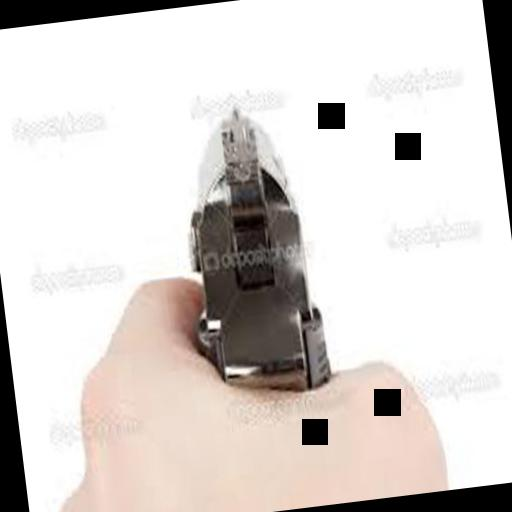Handgun: (174, 112, 336, 402)
